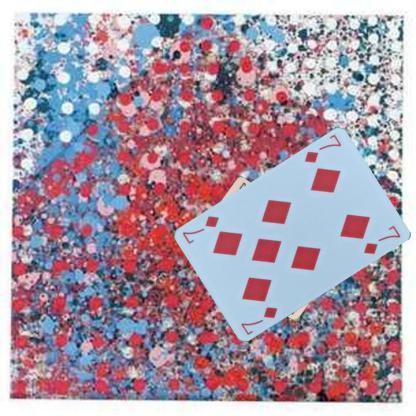7d: (238, 304, 279, 337), (302, 132, 342, 164)
